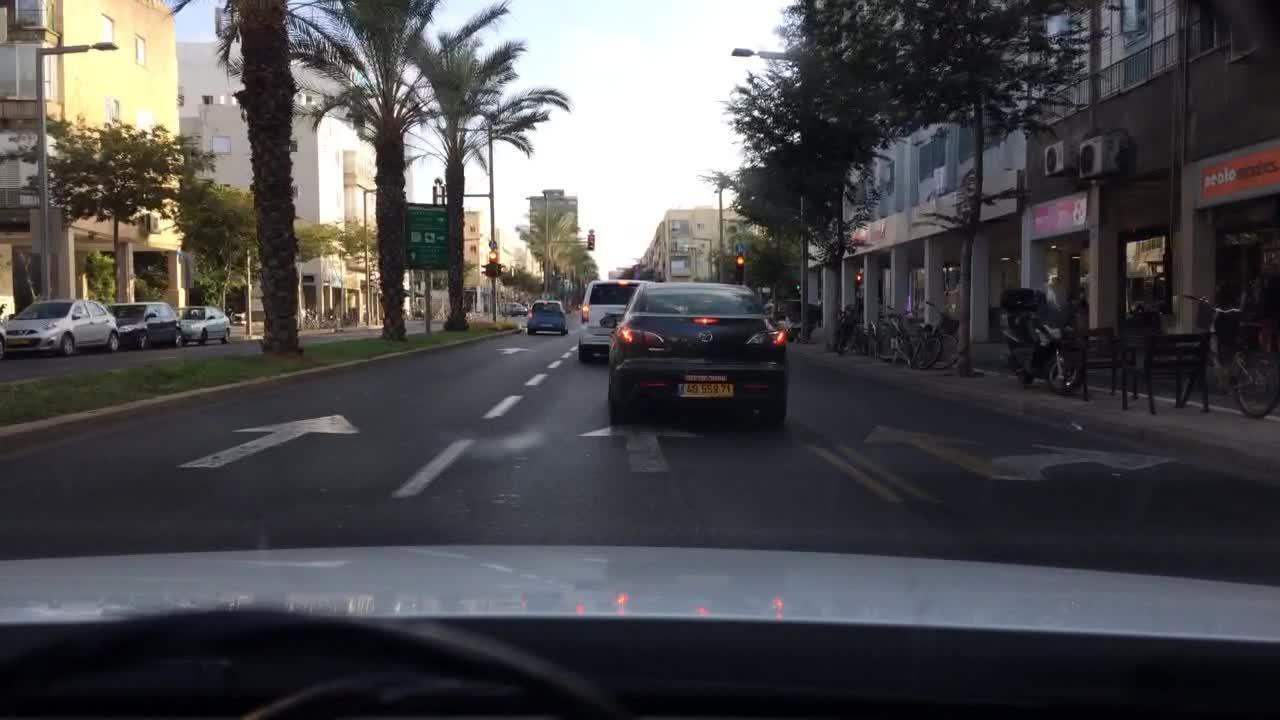Mazda: (698, 327, 715, 345)
